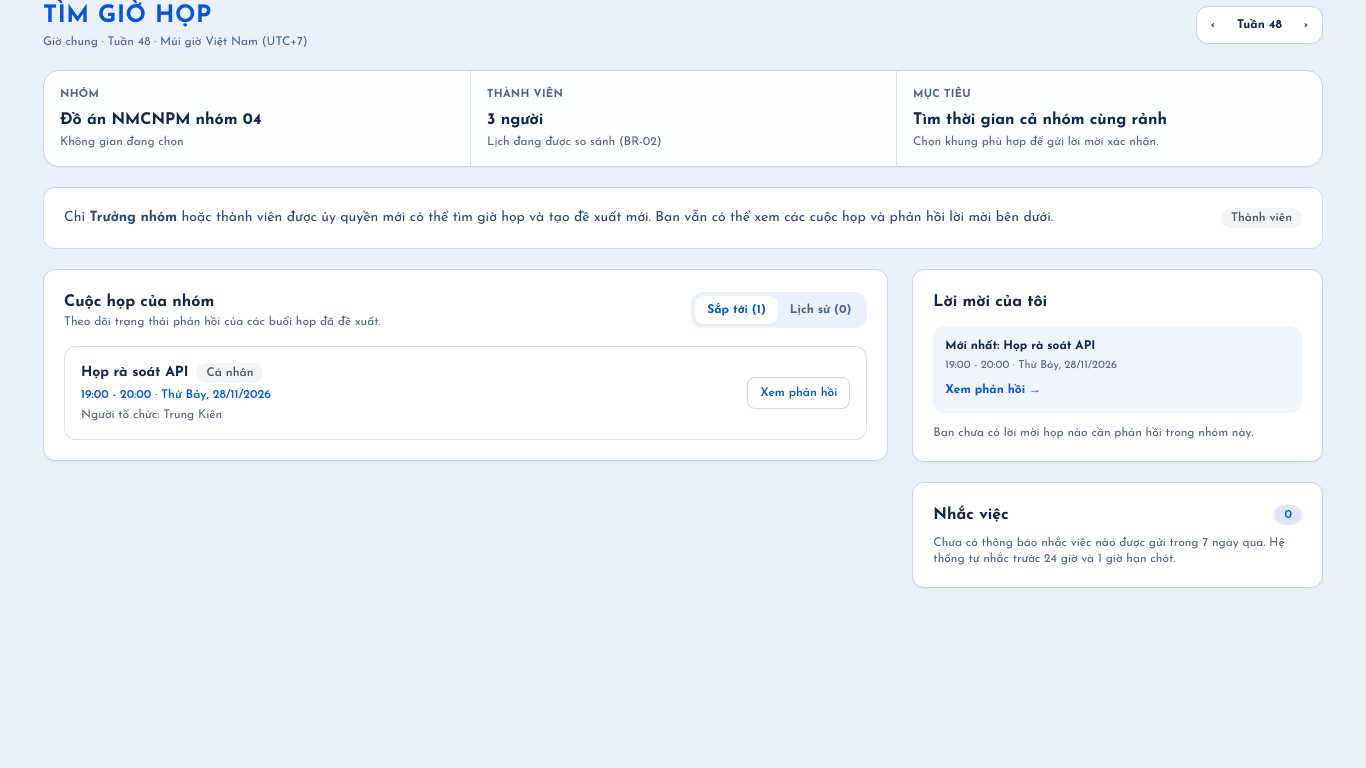
MeetingsPage (TV4) › phản hồi trong modal chi tiết bị 409: vẫn giữ nguyên thông tin buổi họp và danh sách thành viên
The image size is (1366, 768).
Click the button "Xem phản hồi". click: [799, 392]
box: [747,376,850,408]
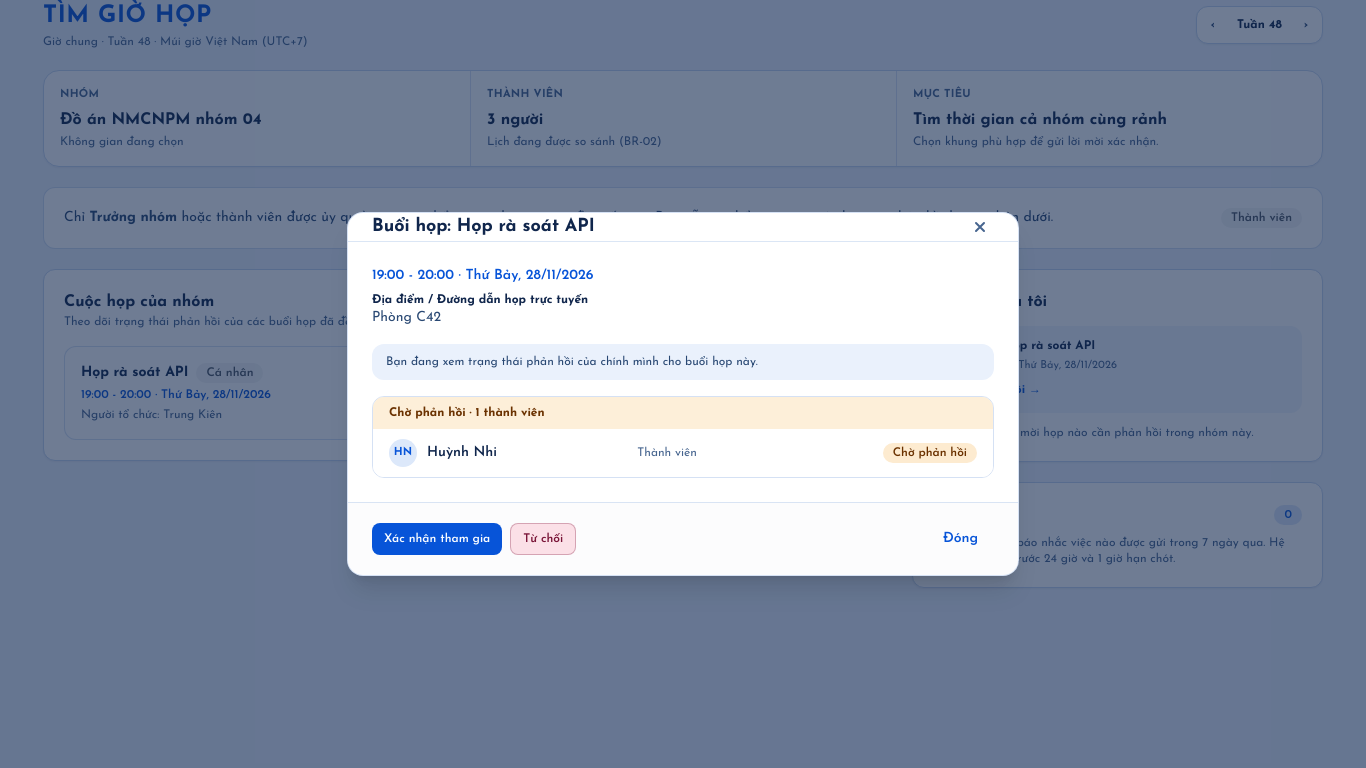
Click the button "Xác nhận tham gia". click: [437, 539]
box: [372,523,502,555]
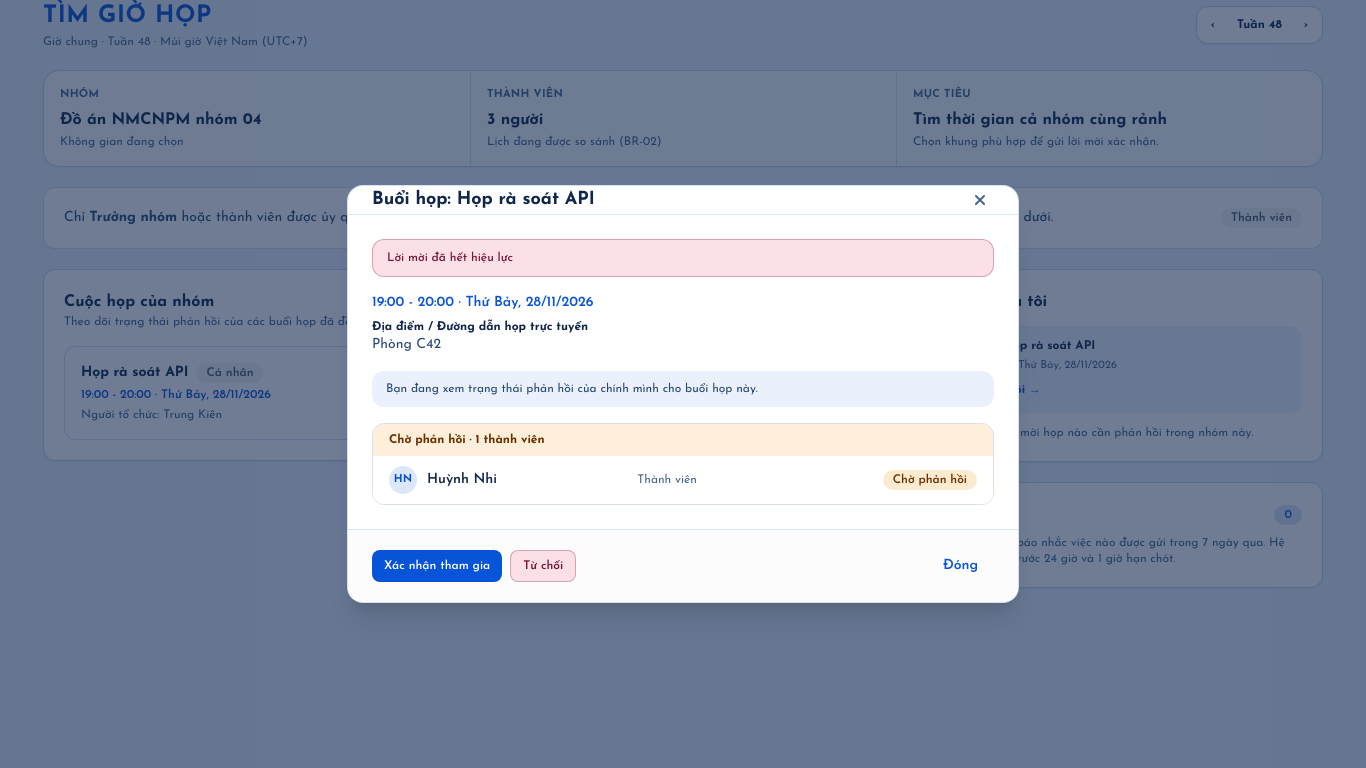
expect the text "Phòng C42" is shown: met, box [372,337,441,352]
expect the text "Huỳnh Nhi" is shown: met, box [427,470,497,490]
expect the text "Lời mời đã hết hiệu lực" is shown: met, box [372,239,994,277]
